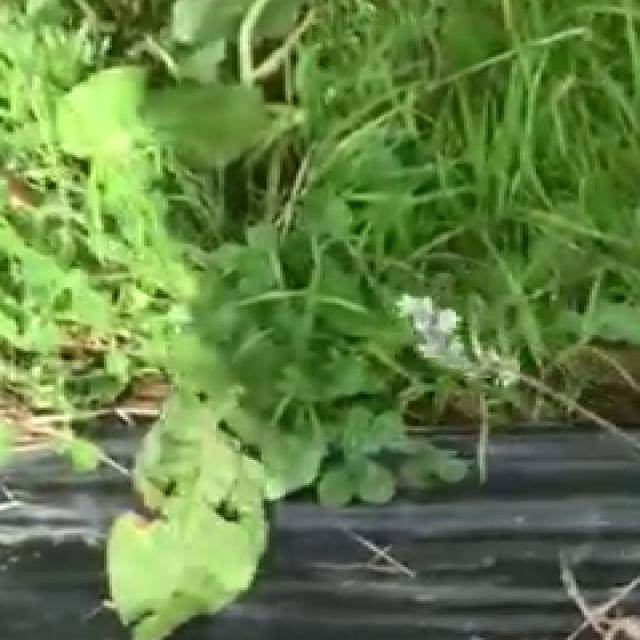organic waste: (83, 269, 376, 631), (61, 0, 303, 232)
